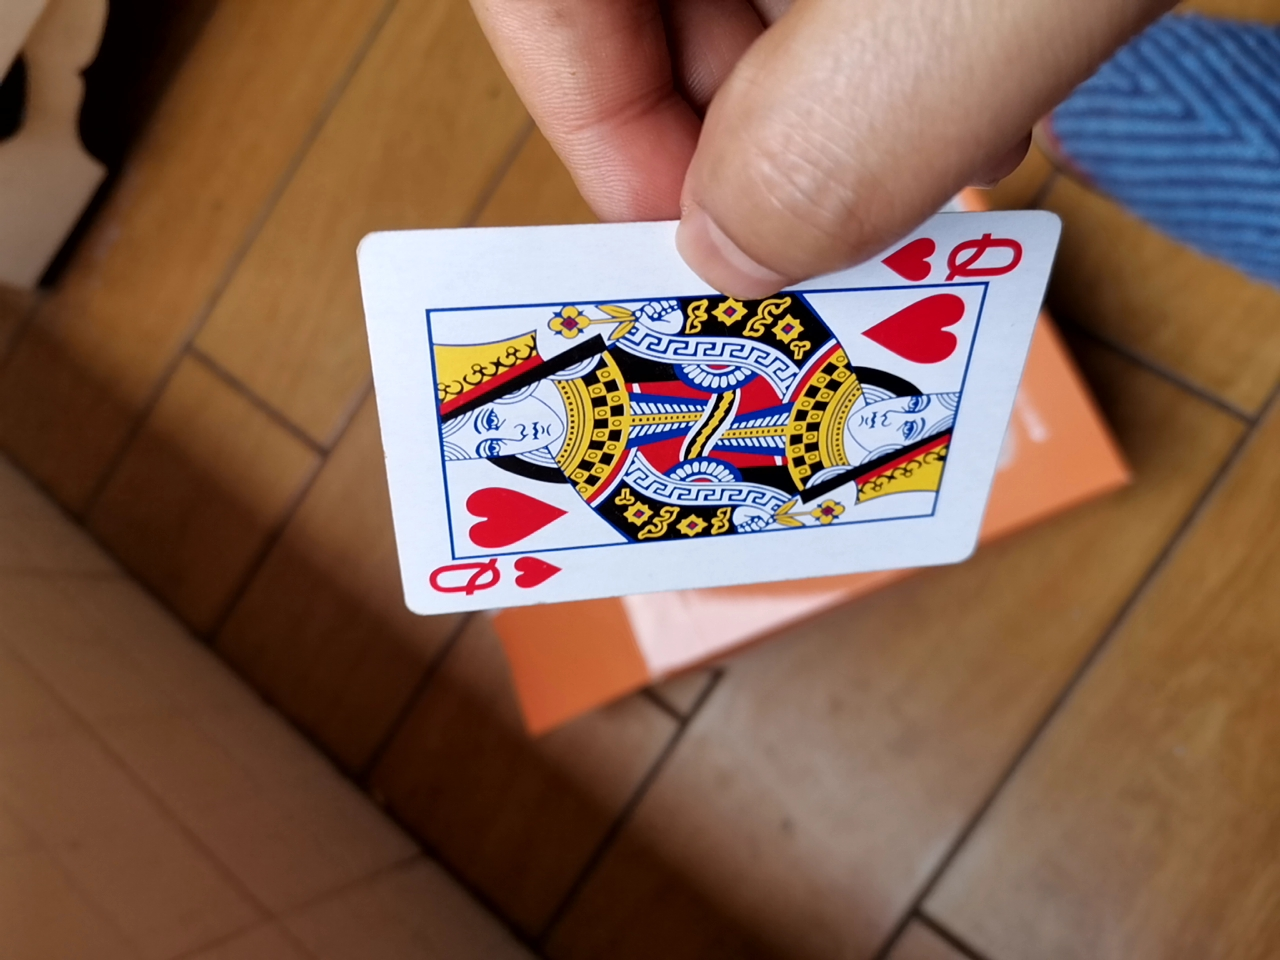hx q: (347, 197, 1067, 617)
